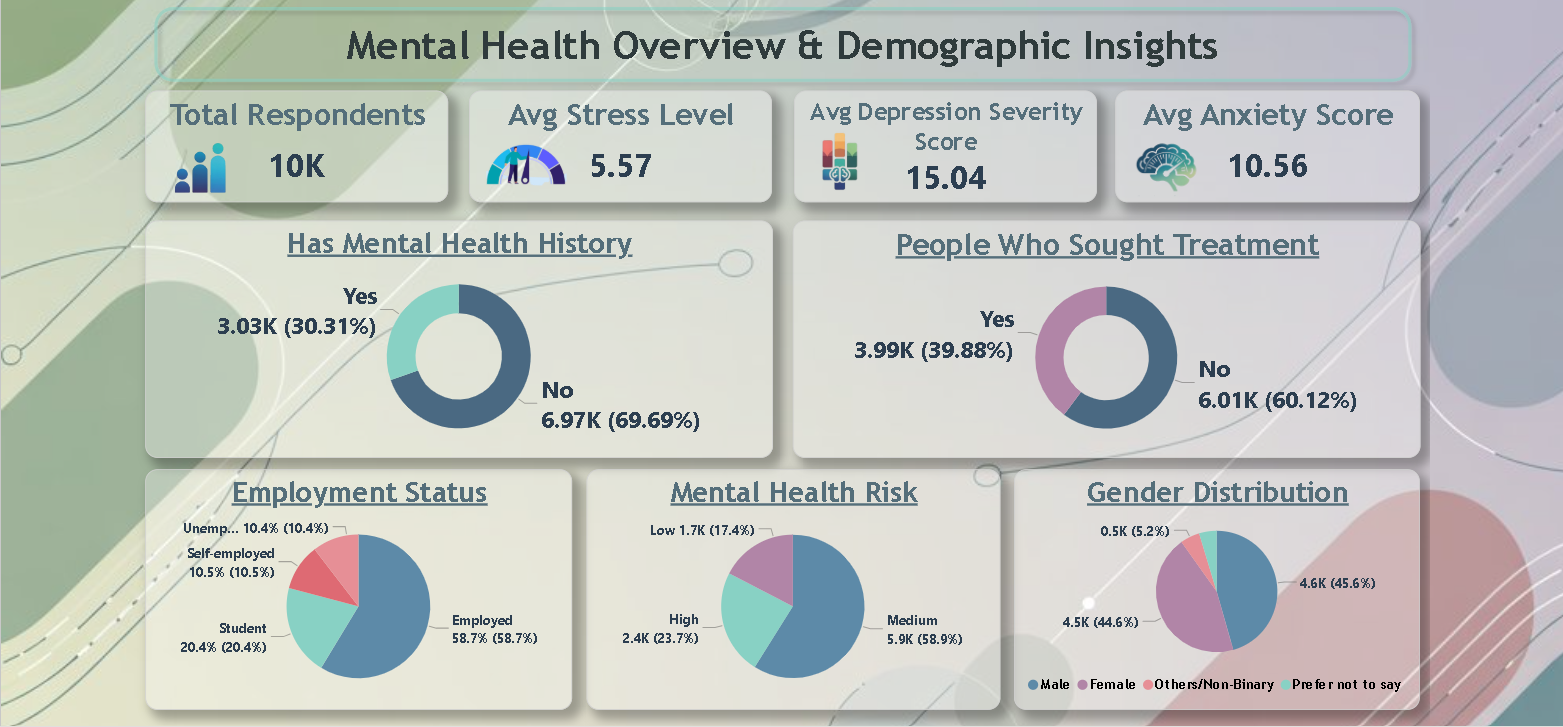

This screenshot's page, from the dashboard's own definition file:
{"tool":"powerbi","page":{"name":"Overview","canvas":[1280,720],"ordinal":0},"visuals":[{"type":"shape","box":[11,0,1259.5,91.7],"z":0},{"type":"card","title":"Total Respondents","fields":{"Values":["Measure Table.total respondents"]},"box":[11,91.7,299.6,110.1],"z":1000},{"type":"card","title":"Avg Stress Level","fields":{"Values":["Measure Table.Average Stress Level"]},"box":[331.4,91.7,299.6,110.1],"z":2000},{"type":"card","title":"Avg Depression Severity Score","fields":{"Values":["Measure Table.Average Depression Score"]},"box":[651.8,91.7,299.6,110.1],"z":3000},{"type":"card","title":"Avg Anxiety Score","fields":{"Values":["Measure Table.Average Anxiety Score"]},"box":[969.7,91.7,300.8,110.1],"z":4000},{"type":"donutChart","title":"People Who Sought Treatment","fields":{"Y":["CountNonNull(mental_health_dataset.seeks_treatment)"],"Category":["mental_health_dataset.seeks_treatment"]},"box":[650.5,220.1,620,234.8],"z":5000},{"type":"donutChart","title":"Has Mental Health History","fields":{"Category":["mental_health_dataset.mental_health_history"],"Y":["CountNonNull(mental_health_dataset.mental_health_history)"]},"box":[11,220.1,620,234.8],"z":6000},{"type":"pieChart","title":"Employment Status","fields":{"Category":["mental_health_dataset.employment_status"],"Y":["Divide(CountNonNull(mental_health_dataset.Index), ScopedEval(CountNonNull(mental_health_dataset.Index), []))"]},"box":[11,465.9,421.9,237.2],"z":7000},{"type":"pieChart","title":"Mental Health Risk","fields":{"Category":["mental_health_dataset.mental_health_risk"],"Y":["CountNonNull(mental_health_dataset.mental_health_risk)"]},"box":[446.3,465.9,408.4,237.2],"z":8000},{"type":"pieChart","title":"Gender Distribution","fields":{"Category":["mental_health_dataset.gender"],"Y":["CountNonNull(mental_health_dataset.gender)"]},"box":[869.4,465.9,401.1,237.2],"z":9000},{"type":"image","box":[24.5,133.3,81.9,68.5],"z":13000},{"type":"image","box":[660.3,127.2,73.4,68.5],"z":14000},{"type":"image","box":[343.6,127.2,89.3,74.6],"z":15000},{"type":"image","box":[983.2,133.3,74.6,68.5],"z":16000}]}

Visuals, with their boxes on the page's 1280x720 design canvas (x1, y1, x2, y2). These are canvas units, not pixel positions in the 1563x727 screenshot, which may show the page scaled, cropped or inside an application window:
shape: (left=11, top=0, right=1270, bottom=92)
"Total Respondents" card: (left=11, top=92, right=311, bottom=202)
"Avg Stress Level" card: (left=331, top=92, right=631, bottom=202)
"Avg Depression Severity Score" card: (left=652, top=92, right=951, bottom=202)
"Avg Anxiety Score" card: (left=970, top=92, right=1270, bottom=202)
"People Who Sought Treatment" donutChart: (left=650, top=220, right=1270, bottom=455)
"Has Mental Health History" donutChart: (left=11, top=220, right=631, bottom=455)
"Employment Status" pieChart: (left=11, top=466, right=433, bottom=703)
"Mental Health Risk" pieChart: (left=446, top=466, right=855, bottom=703)
"Gender Distribution" pieChart: (left=869, top=466, right=1270, bottom=703)
image: (left=24, top=133, right=106, bottom=202)
image: (left=660, top=127, right=734, bottom=196)
image: (left=344, top=127, right=433, bottom=202)
image: (left=983, top=133, right=1058, bottom=202)
